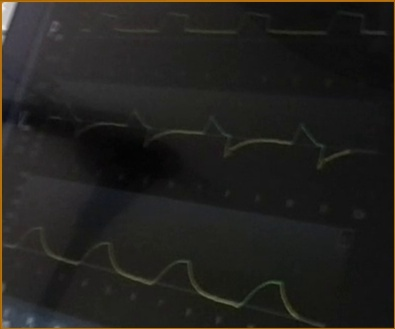Normal Flow: (51, 95, 353, 170)
Normal Volume: (2, 221, 326, 326)
